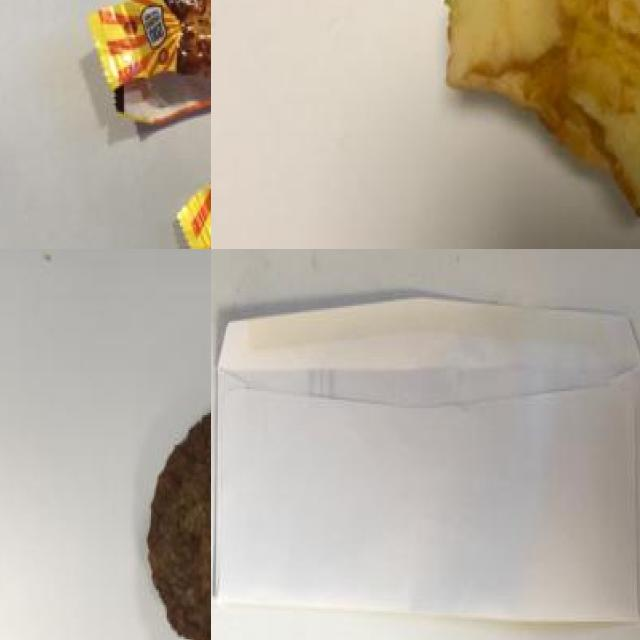compost: (435, 0, 640, 238), (124, 366, 211, 640)
paper: (211, 292, 640, 635)
trash: (76, 0, 211, 249)
